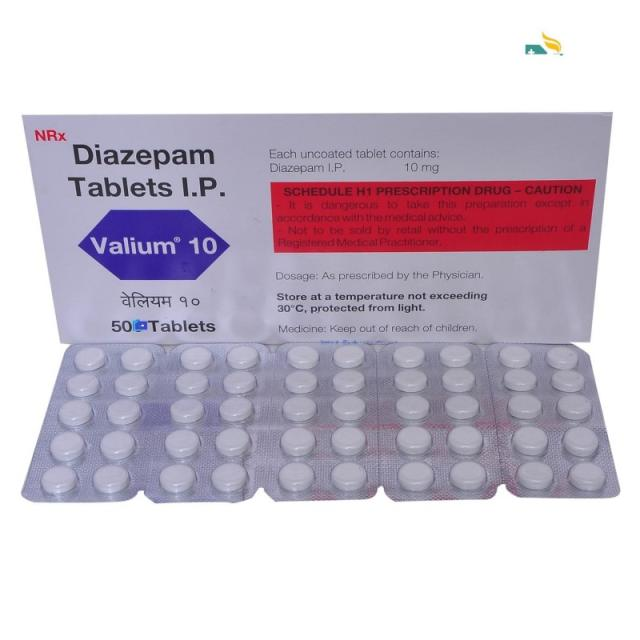Medicine-name: (61, 133, 236, 206)
